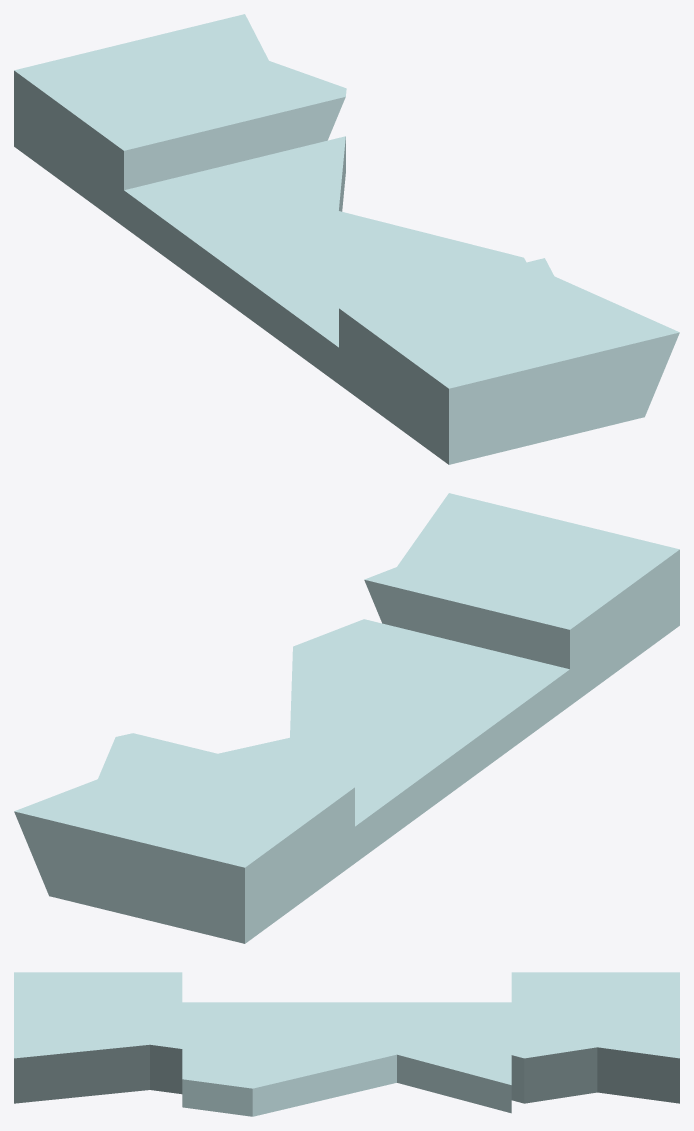
Rendered from naturePack_141.fbx.
The picture shows the model from 3 angles, top to bottom: view 1: azimuth 30°, elevation 25°; view 2: azimuth 150°, elevation 25°; view 3: azimuth 270°, elevation 25°; orthographic projection. The views are drawn at different scales.
Parts seen in each view (by area): view 1: naturePack_141; view 2: naturePack_141; view 3: naturePack_141.
Part boxes in pixels (x1=…): naturePack_141: x1=14, y1=14, x2=679, y2=464; naturePack_141: x1=14, y1=493, x2=679, y2=943; naturePack_141: x1=14, y1=972, x2=679, y2=1116.
Bounding box in the file's own units: 92 × 29 × 300.
